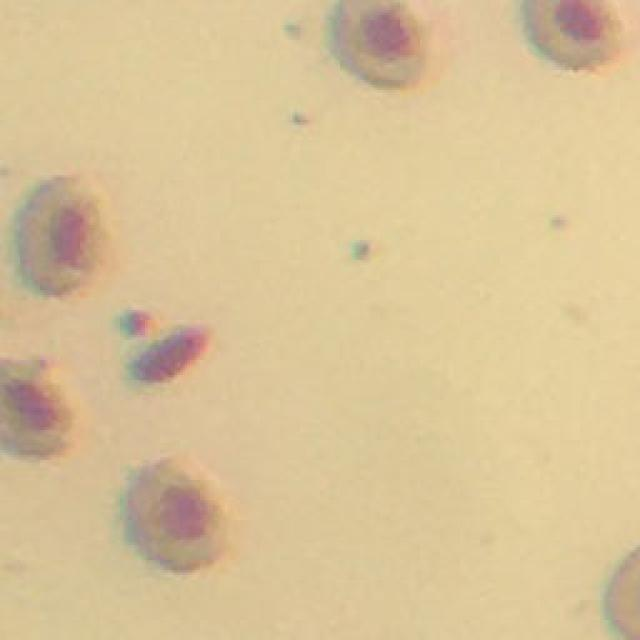RBC: (124, 458, 230, 572), (12, 178, 108, 298), (333, 0, 430, 89), (0, 360, 80, 461), (524, 0, 626, 70)
WBC: (130, 328, 210, 382)
